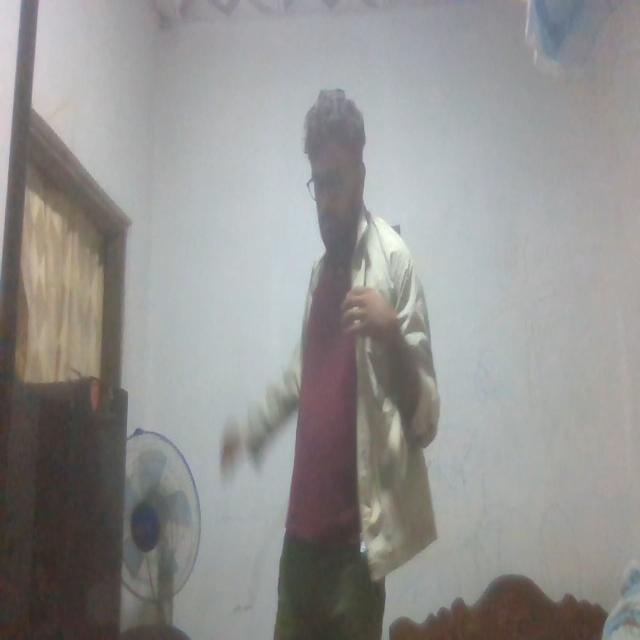Jacket_Wearer: (236, 229, 446, 567)
Person: (236, 97, 440, 640)
